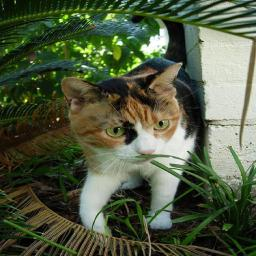catnose: (137, 148, 156, 156)
